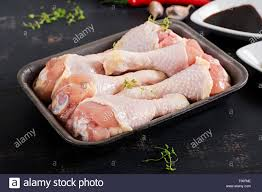Chicken: (47, 64, 189, 109)
